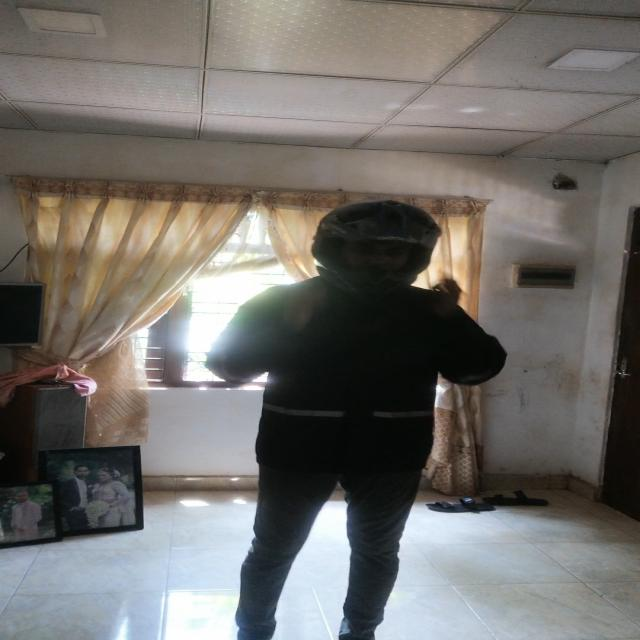Helmet_Wearer: (298, 196, 447, 306)
Jacket_Wearer: (210, 273, 506, 509)
Person: (196, 198, 510, 640)
